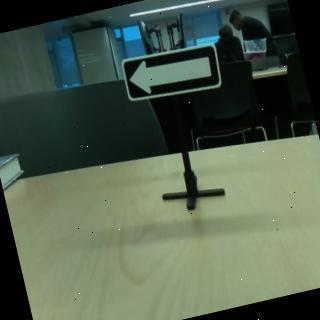sign_oneway_left: (119, 37, 227, 110)
